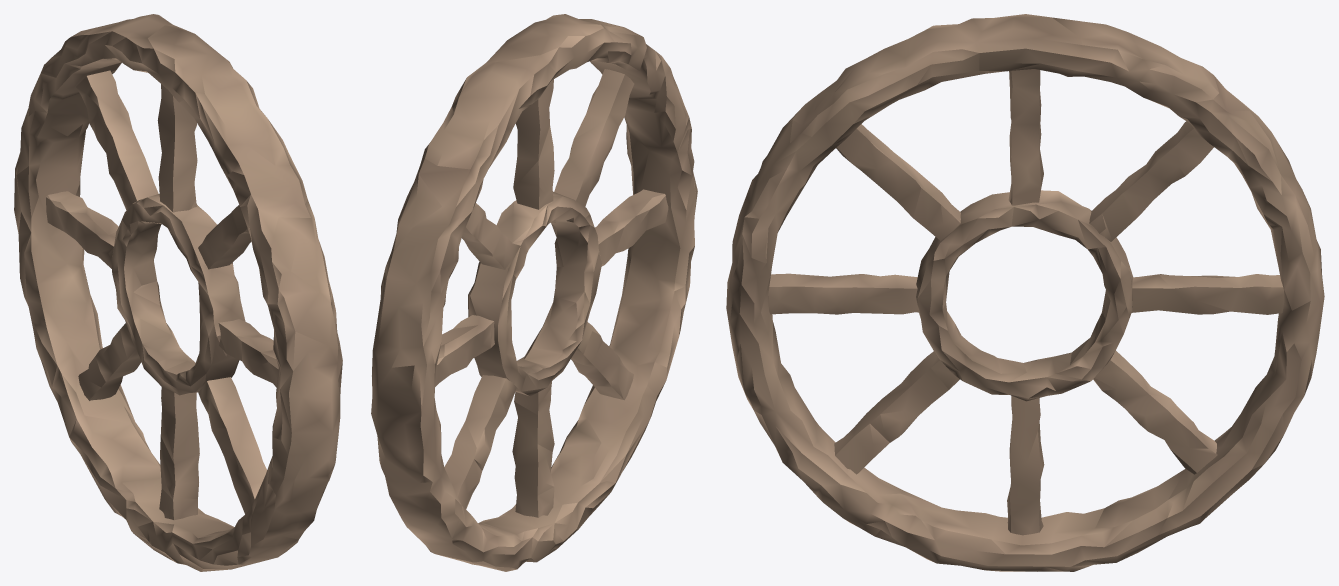
The model's file is Window01.fbx.
The picture shows the model from 3 angles, left to right: view 1: azimuth 30°, elevation 25°; view 2: azimuth 150°, elevation 25°; view 3: azimuth 270°, elevation 25°; orthographic projection. The views are drawn at different scales.
Visible parts, largest first — view 1: Window; view 2: Window; view 3: Window.
Part boxes in pixels (x1=…): Window: x1=14, y1=14, x2=342, y2=571; Window: x1=371, y1=14, x2=697, y2=571; Window: x1=726, y1=14, x2=1324, y2=571.
Bounding box in the file's own units: 20.7 × 159 × 159.
